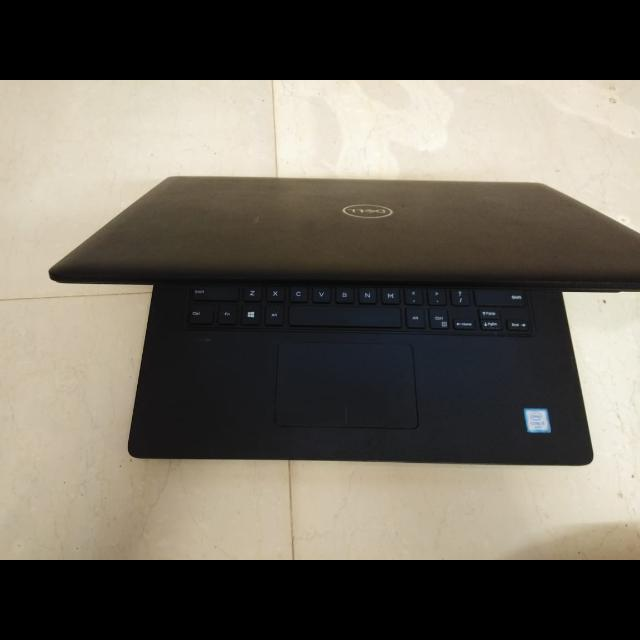Laptop: (40, 167, 640, 481)
